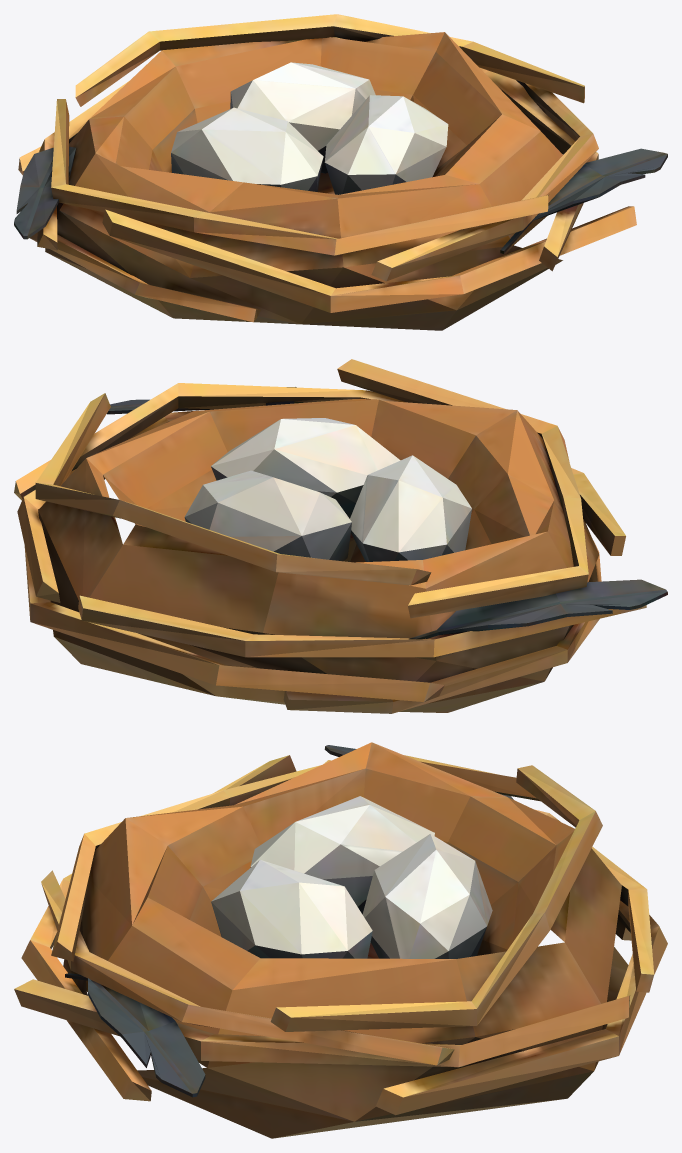
File: birdsNest.glb
3 views of the same model, one above another, from view 1: azimuth 30°, elevation 25°; view 2: azimuth 150°, elevation 25°; view 3: azimuth 270°, elevation 25° (orthographic). The views are drawn at different scales.
Parts seen in each view (by area): view 1: birds_nest; view 2: birds_nest; view 3: birds_nest.
Boxes of the visible parts, x1=… form: birds_nest: x1=14, y1=14, x2=667, y2=330; birds_nest: x1=14, y1=359, x2=667, y2=713; birds_nest: x1=14, y1=742, x2=667, y2=1138.
Size of the model in its own units: 2.32 by 0.695 by 1.95.
Materials: 1 (1 with a texture image).
